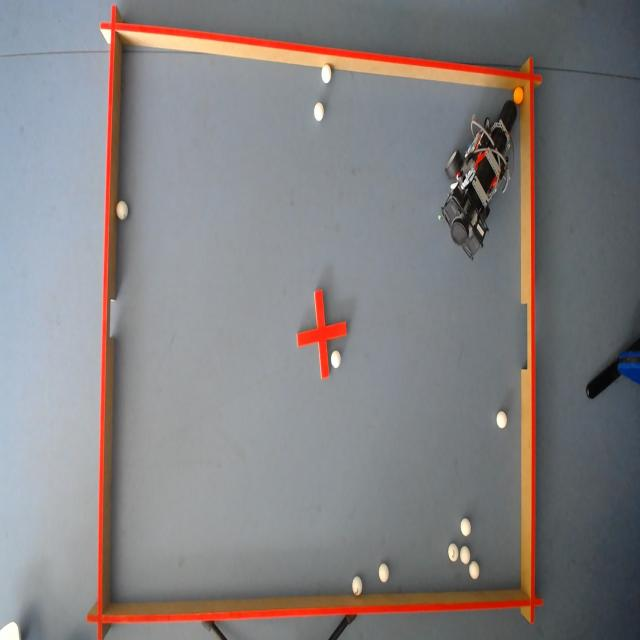orange: (514, 86, 523, 102)
robot: (443, 100, 518, 257)
white: (313, 101, 325, 121), (377, 563, 388, 584), (496, 408, 506, 430), (350, 576, 361, 596), (461, 517, 471, 538), (116, 198, 126, 219), (469, 561, 479, 581), (448, 543, 458, 561), (322, 63, 331, 82), (461, 546, 470, 565), (332, 349, 341, 367)
